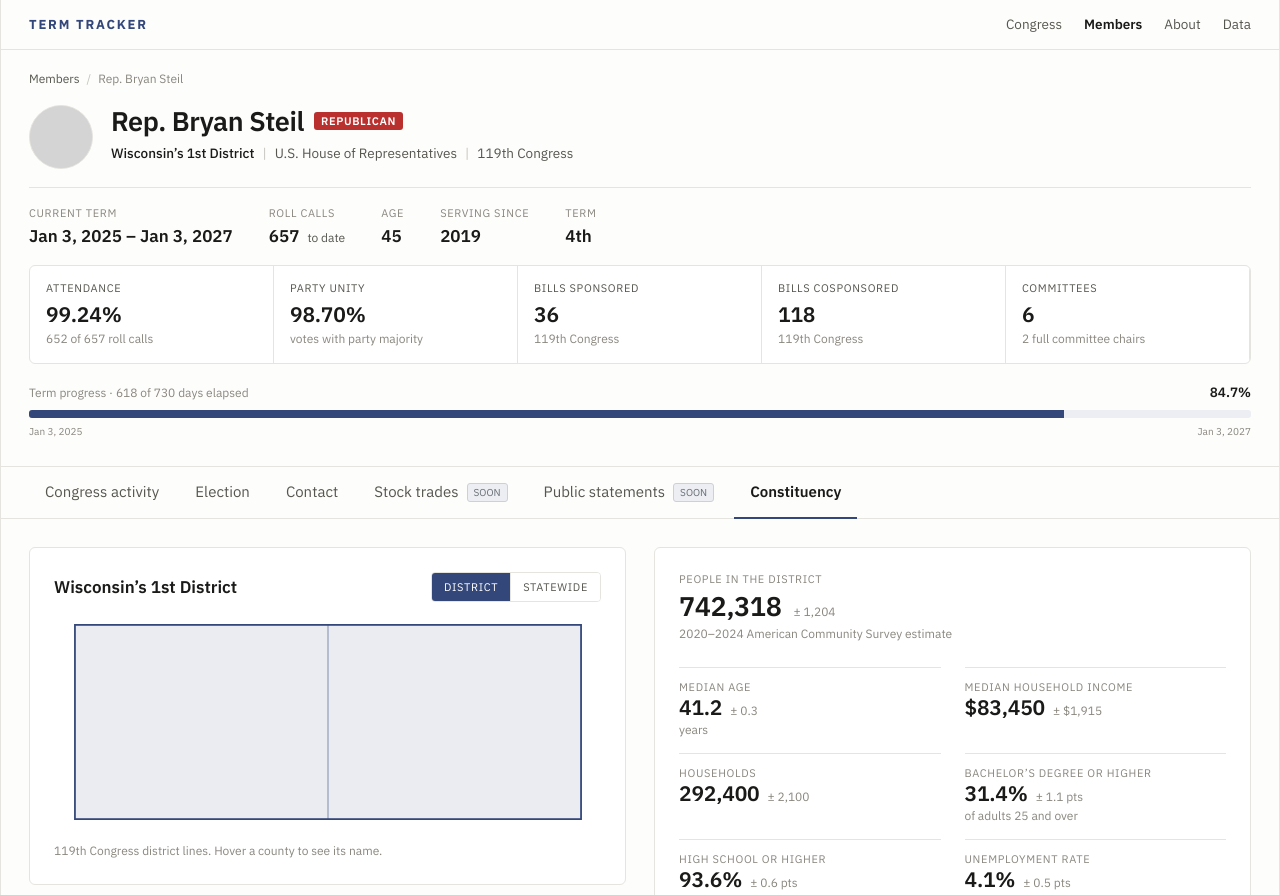
Test: member tabs › a locked tab says it is not published yet
Click the tab "Stock trades Soon" at (441, 493), box [358,467,524,519]
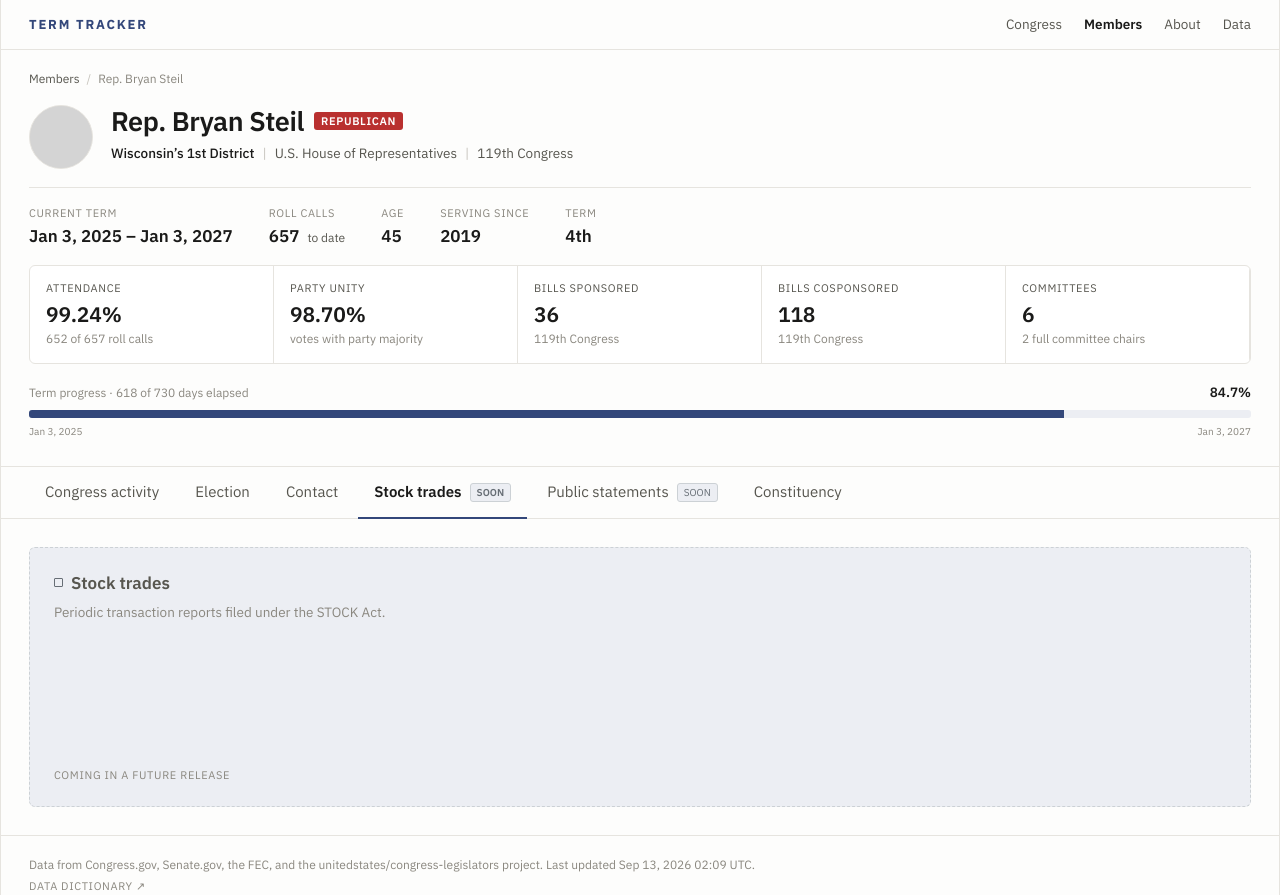
Check: the panel shows "Coming in a future release", box [54,768,230,782]
